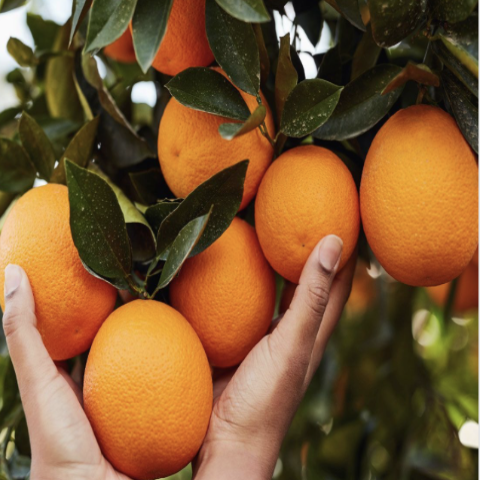orange: (70, 294, 222, 476), (340, 92, 477, 289), (249, 126, 366, 290)
